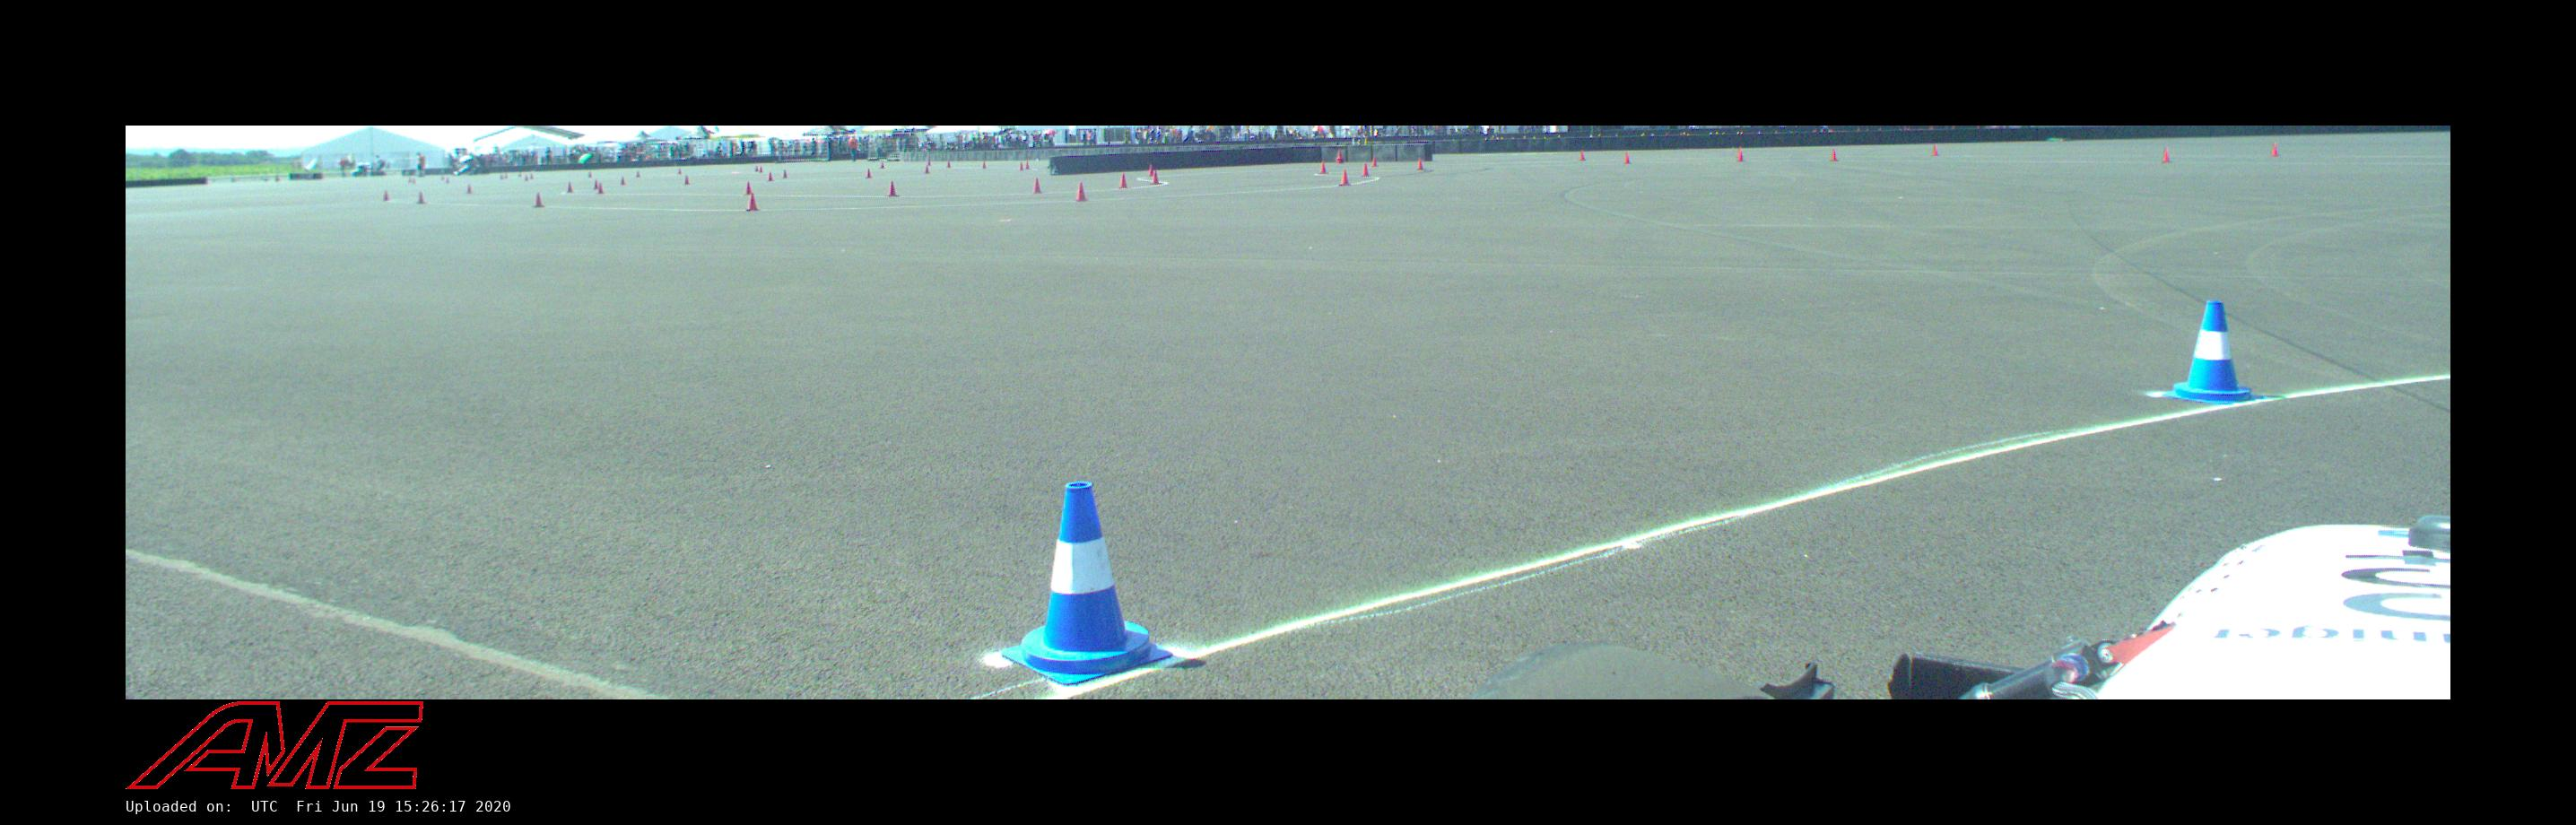blue_cone: (1002, 482, 1172, 685), (2163, 300, 2265, 404)
unknown_cone: (746, 193, 759, 212), (1338, 169, 1351, 187), (1076, 184, 1086, 201), (1118, 174, 1127, 188), (886, 183, 896, 196), (1151, 170, 1160, 184), (1736, 147, 1744, 161), (1415, 156, 1423, 170), (1930, 143, 1938, 157), (1361, 163, 1369, 177), (1829, 150, 1839, 161), (1318, 161, 1327, 174), (1335, 148, 1343, 161), (1623, 151, 1631, 164), (597, 181, 605, 194), (766, 171, 774, 182), (1579, 149, 1586, 161), (1034, 178, 1040, 194), (1148, 163, 1154, 176), (865, 169, 872, 179), (566, 182, 573, 193), (1371, 156, 1378, 166), (2271, 143, 2276, 156), (2163, 149, 2169, 161), (781, 169, 788, 178), (1024, 160, 1031, 169), (1018, 161, 1024, 170), (683, 175, 689, 186), (621, 176, 626, 187), (981, 160, 988, 169), (924, 165, 930, 174), (594, 178, 598, 189), (927, 158, 932, 166), (757, 166, 762, 173), (947, 160, 952, 168), (880, 162, 885, 169), (636, 170, 641, 177), (587, 171, 592, 178), (678, 168, 682, 174), (755, 166, 759, 171)
